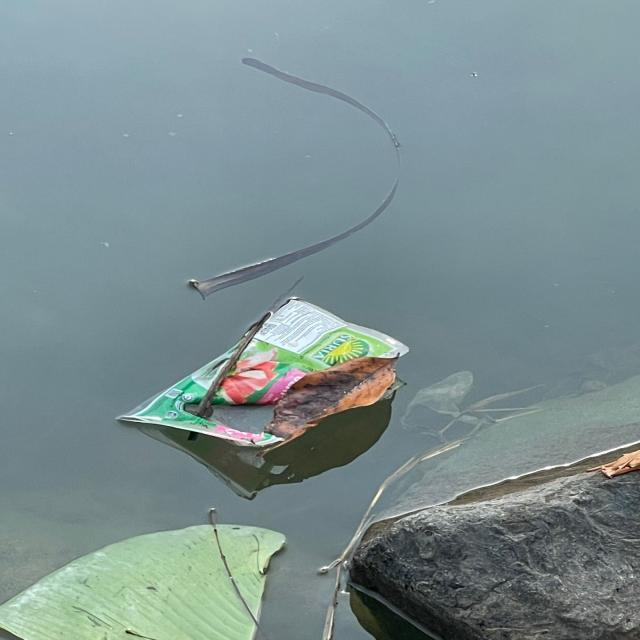Bungkus Makanan: (119, 299, 429, 473)
